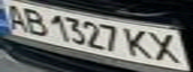1: (42, 11, 69, 42)
2: (81, 18, 103, 51)
3: (60, 15, 84, 46)
7: (100, 22, 124, 54)
A: (0, 1, 30, 31)
B: (18, 6, 51, 36)
K: (121, 25, 154, 61)
X: (145, 29, 187, 65)
